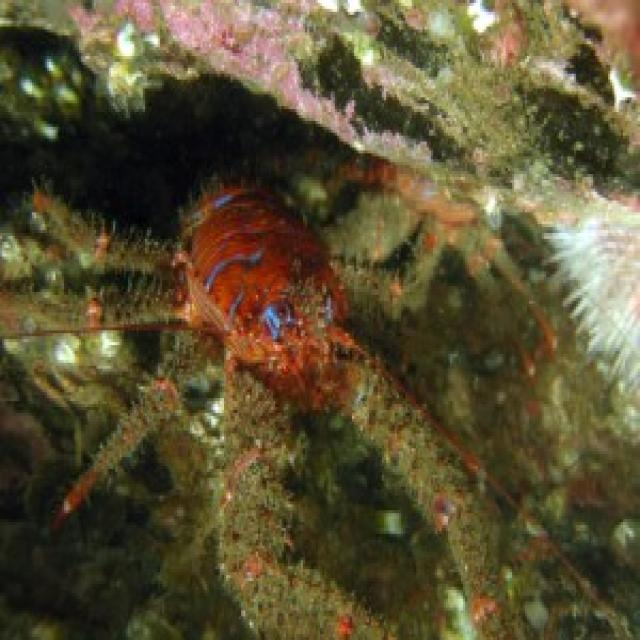lobsters: (34, 76, 444, 515)
